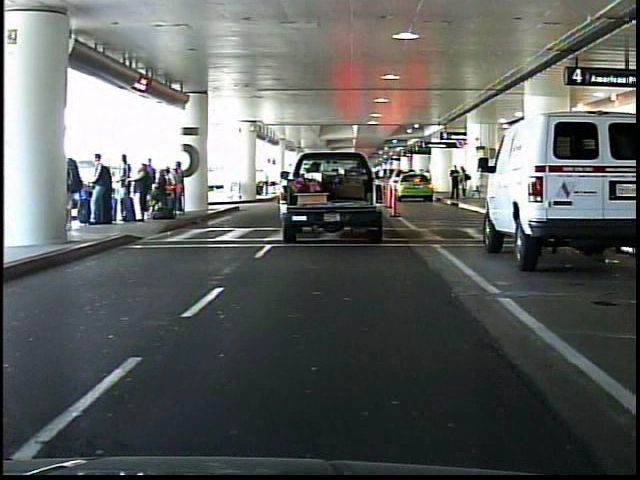person: (447, 165, 461, 202), (460, 165, 472, 203)
